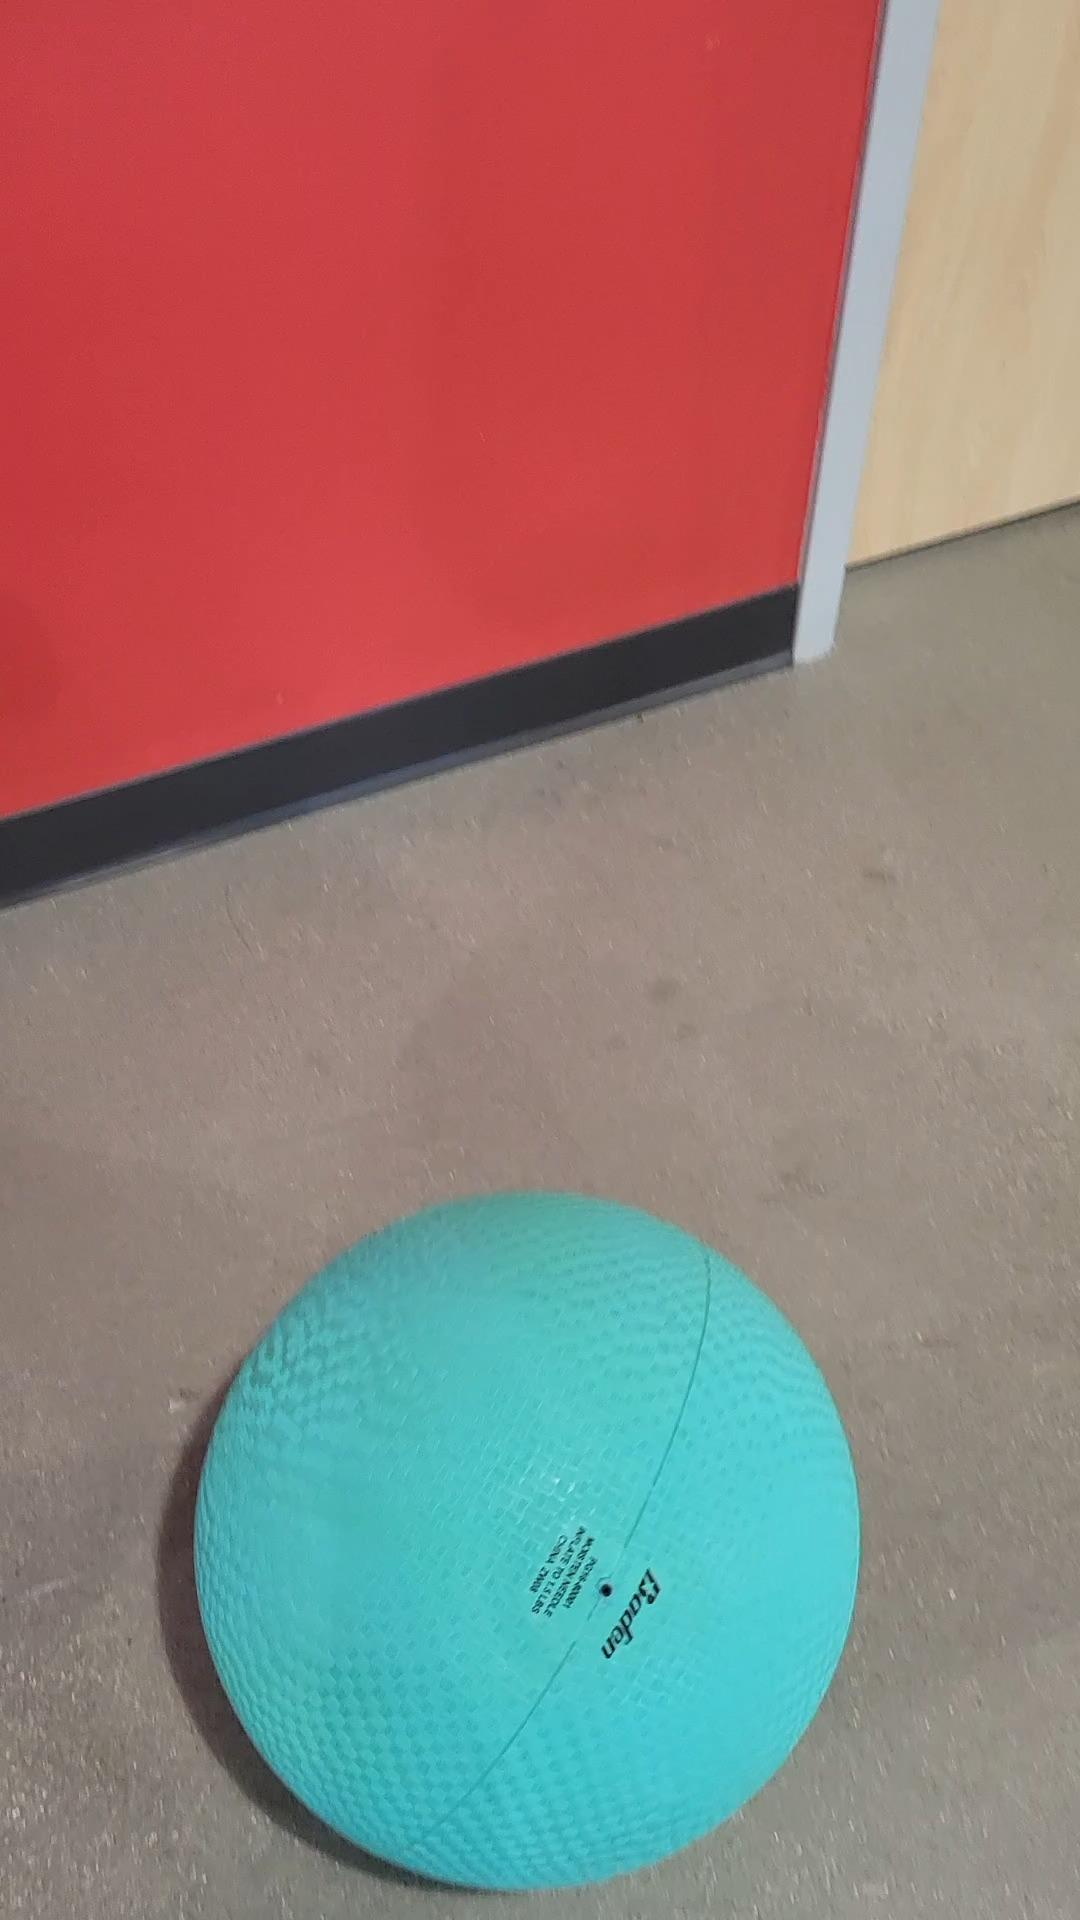algae: (200, 1191, 855, 1880)
